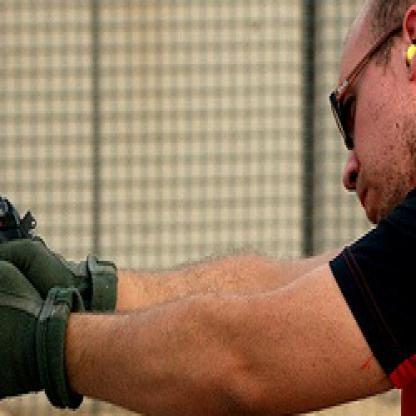gun: (0, 175, 42, 305)
